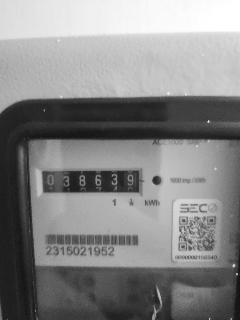1: (48, 175, 54, 185)
4: (111, 174, 117, 185), (63, 176, 69, 187)
7: (95, 175, 101, 186)
9: (79, 176, 85, 187)
:: (128, 175, 134, 186)
